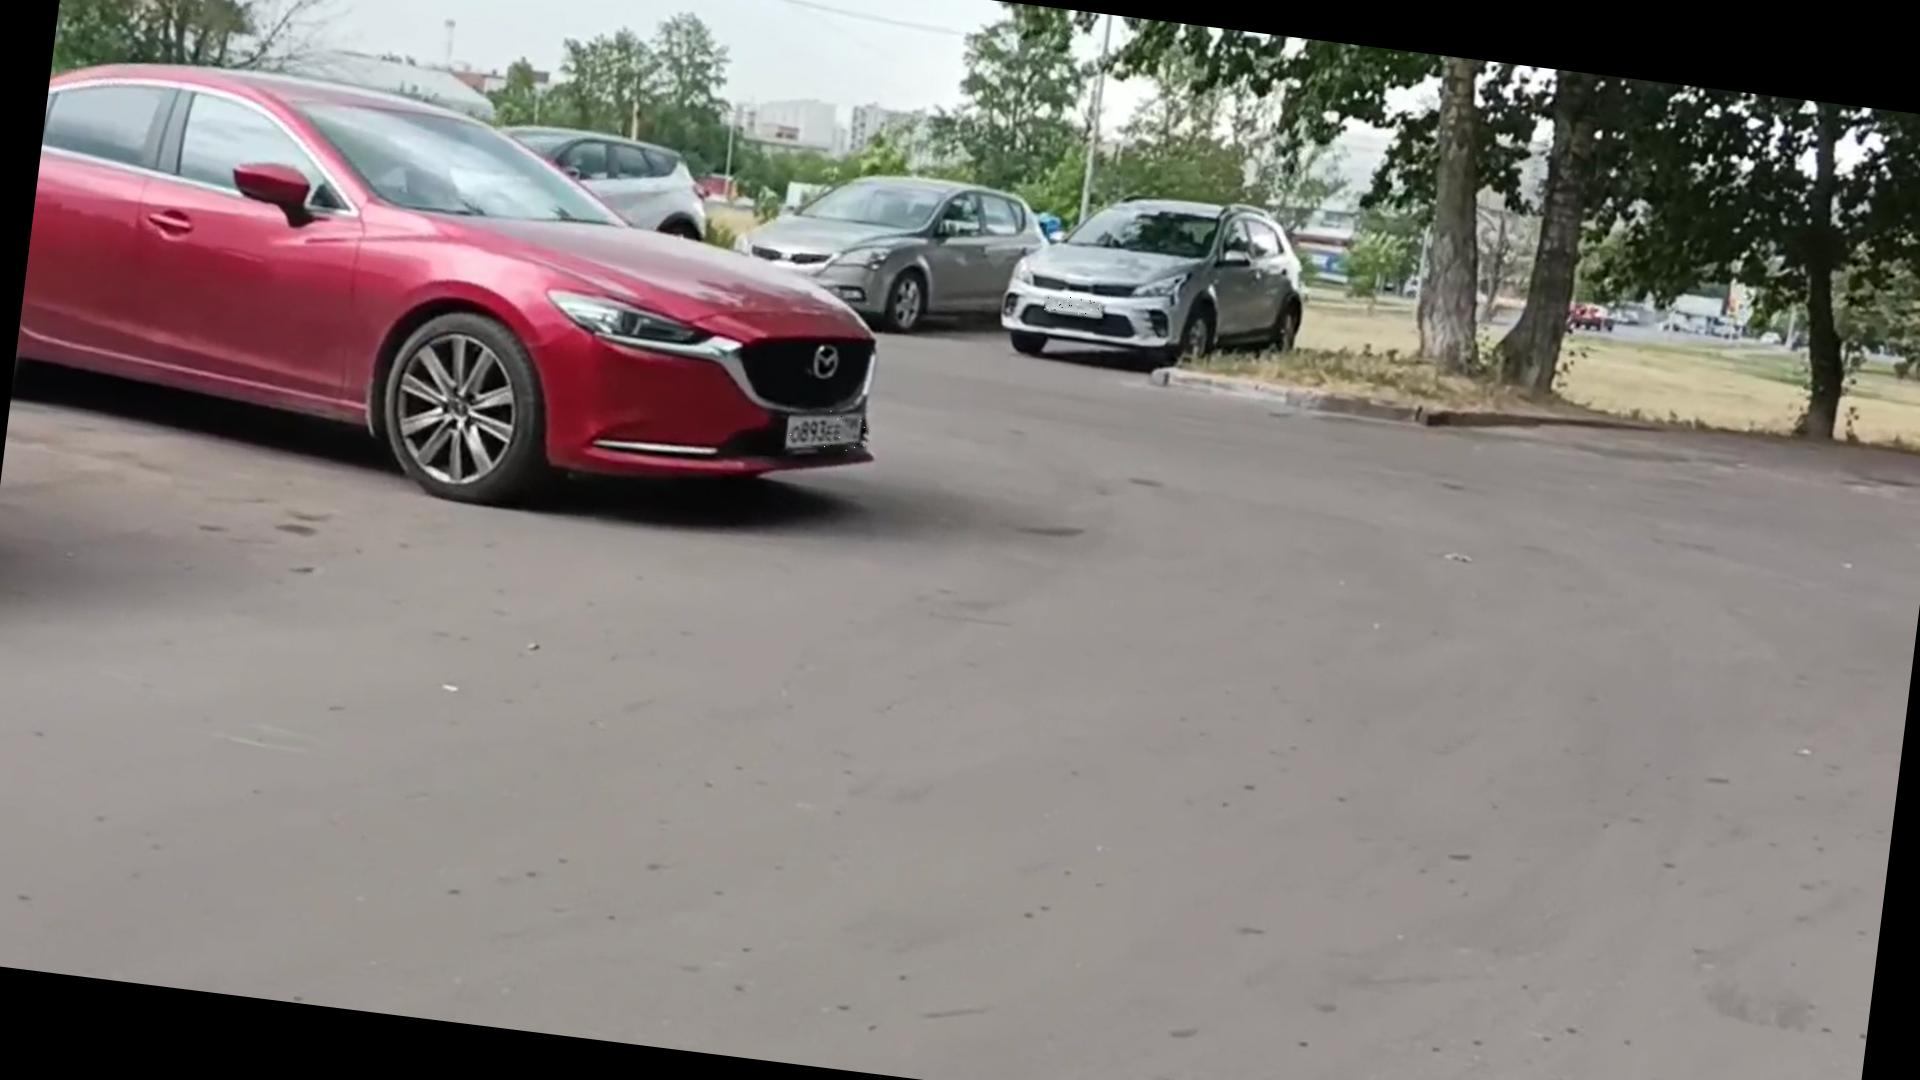plate: (788, 405, 871, 455), (1044, 295, 1103, 318)
